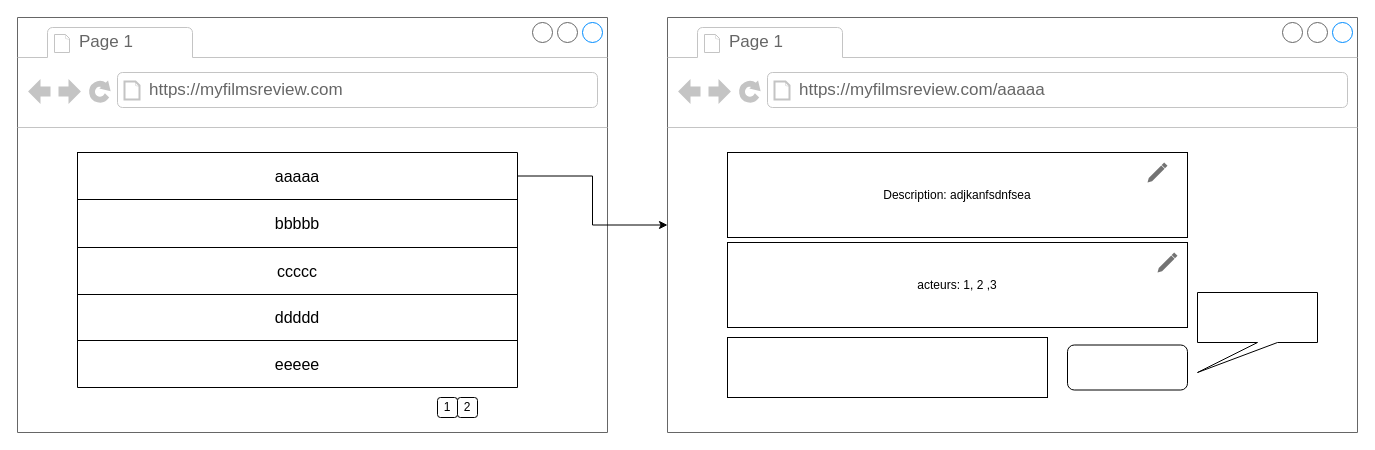
Image size: 1375x450. Some labels were removed from this diagram. Each missing label, with the box of its shape:
add review: (1066, 344, 1188, 390)
note: /5: (726, 336, 1048, 398)
Use stars overlay: (1196, 292, 1318, 372)
